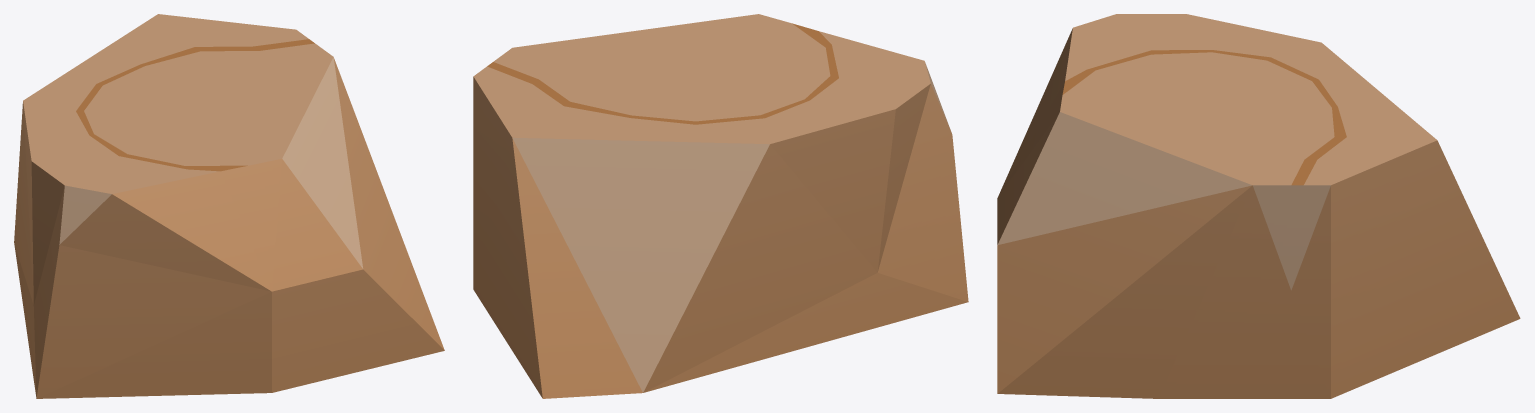
File: ancient-stone-2.glb
3 views of the same model, side by side, from view 1: azimuth 30°, elevation 25°; view 2: azimuth 150°, elevation 25°; view 3: azimuth 270°, elevation 25° (orthographic). The views are drawn at different scales.
Visible parts, largest first — view 1: ancient stone 2; view 2: ancient stone 2; view 3: ancient stone 2.
Boxes of the visible parts, bbox=[...] form: ancient stone 2: bbox=[14, 14, 444, 398]; ancient stone 2: bbox=[473, 14, 968, 398]; ancient stone 2: bbox=[997, 14, 1520, 398].
Size of the model in its own units: 1.47 by 0.7778 by 1.73.
1 material, 1 textured.
